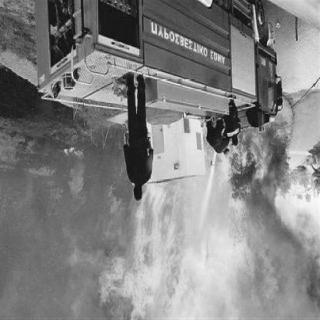Fire: (88, 130, 284, 318)
